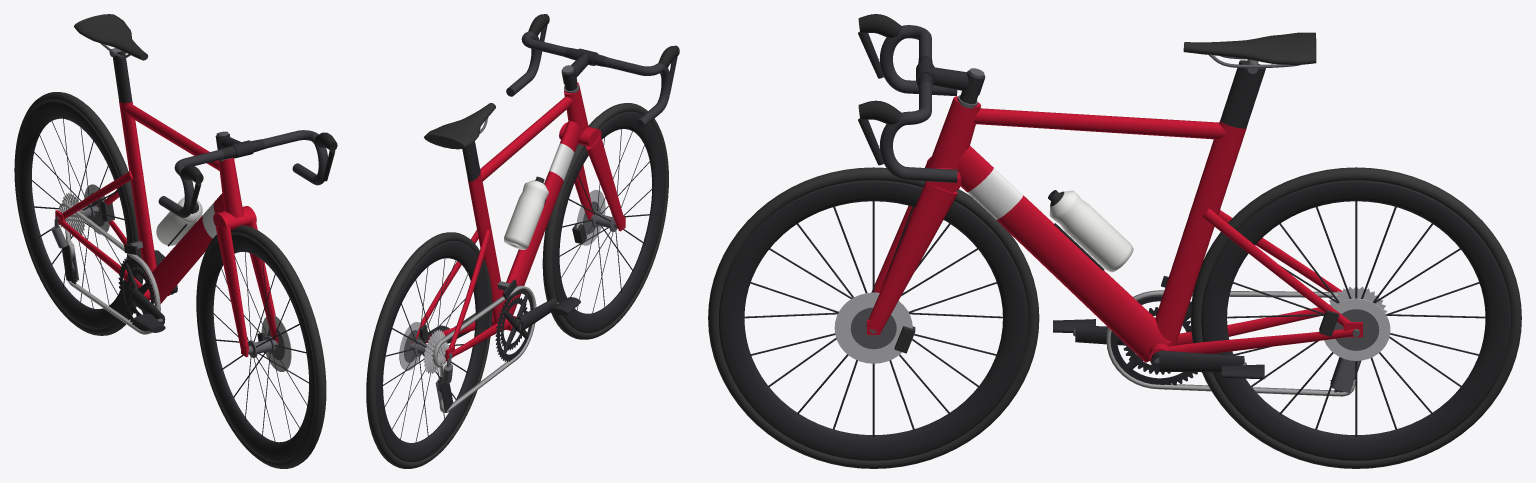
File: Velo_Aero.glb
The picture shows the model from 3 angles, left to right: view 1: azimuth 30°, elevation 25°; view 2: azimuth 150°, elevation 25°; view 3: azimuth 270°, elevation 25°; orthographic projection. The views are drawn at different scales.
Visible parts, largest first — view 1: Cadre_LOD0, RoueAvant_LOD0, RoueArriere_LOD0, Direction_LOD0, Pedalier_LOD0, PedaleD_LOD0; view 2: Cadre_LOD0, RoueArriere_LOD0, RoueAvant_LOD0, Direction_LOD0, Pedalier_LOD0, PedaleD_LOD0; view 3: Cadre_LOD0, RoueAvant_LOD0, RoueArriere_LOD0, Direction_LOD0, Pedalier_LOD0.
Boxes of the visible parts, <box> form: Cadre_LOD0: <box>51,14,243,334</box>; RoueAvant_LOD0: <box>196,225,326,468</box>; RoueArriere_LOD0: <box>14,92,143,335</box>; Direction_LOD0: <box>158,130,337,357</box>; Pedalier_LOD0: <box>118,256,177,331</box>; PedaleD_LOD0: <box>133,313,165,332</box>; Cadre_LOD0: <box>410,82,588,412</box>; RoueArriere_LOD0: <box>366,232,492,468</box>; RoueAvant_LOD0: <box>542,103,668,339</box>; Direction_LOD0: <box>506,14,679,244</box>; Pedalier_LOD0: <box>447,289,557,361</box>; PedaleD_LOD0: <box>549,297,580,315</box>; Cadre_LOD0: <box>928,32,1362,396</box>; RoueAvant_LOD0: <box>708,167,1039,468</box>; RoueArriere_LOD0: <box>1190,167,1521,468</box>; Direction_LOD0: <box>858,14,985,353</box>; Pedalier_LOD0: <box>1075,296,1244,385</box>.
Size of what is drawn, in the model's own units: 0.452 by 0.9653 by 1.67.
Materials: 1 (1 with a texture image).
